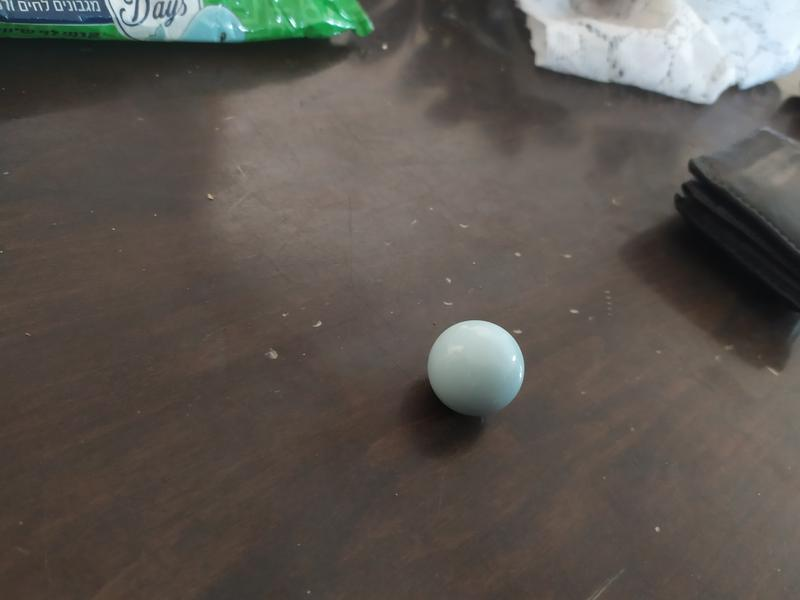Warning: (424, 316, 528, 421)
